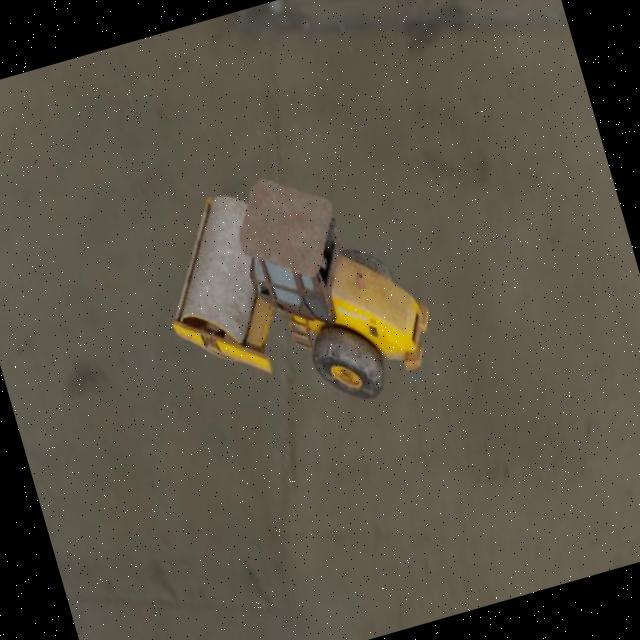Roller: (138, 142, 448, 446)
